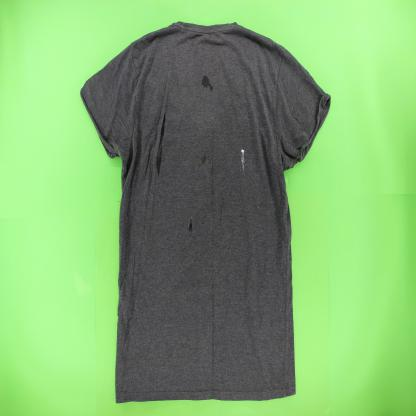hole: (155, 108, 167, 184)
stain: (200, 72, 216, 95), (239, 148, 248, 179), (196, 151, 208, 169), (187, 214, 195, 233)
